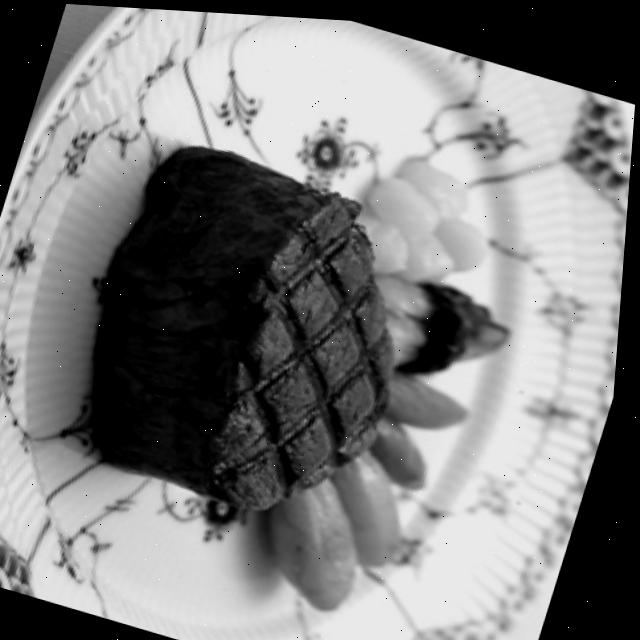牛肉菜式: (36, 103, 466, 557)
